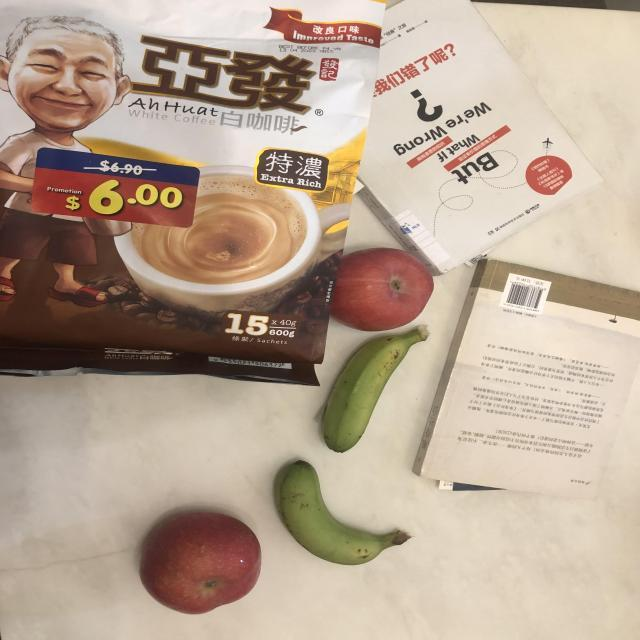apple: (125, 492, 278, 623), (309, 240, 455, 344)
banana: (268, 457, 440, 581), (324, 310, 436, 449)
